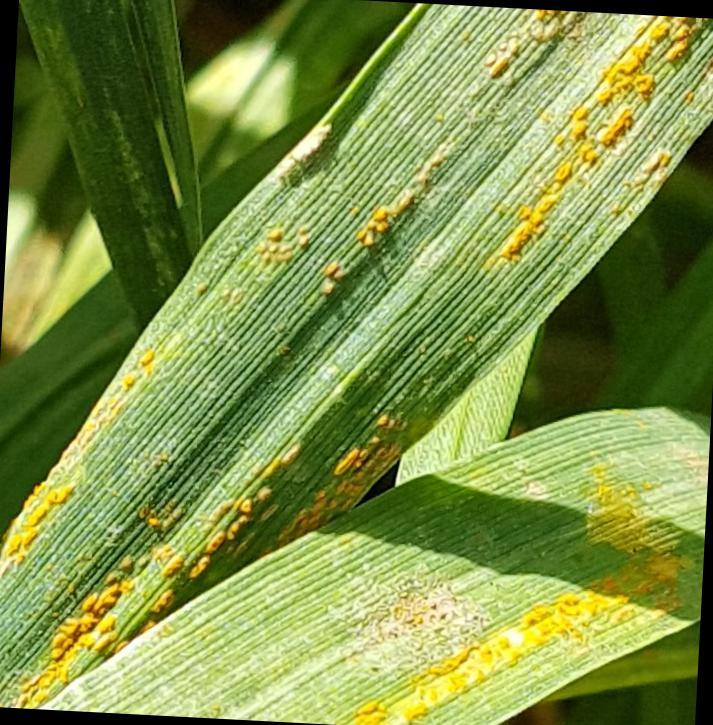Wheat: (468, 6, 713, 276), (326, 570, 638, 725), (5, 532, 240, 712), (0, 446, 94, 600)
